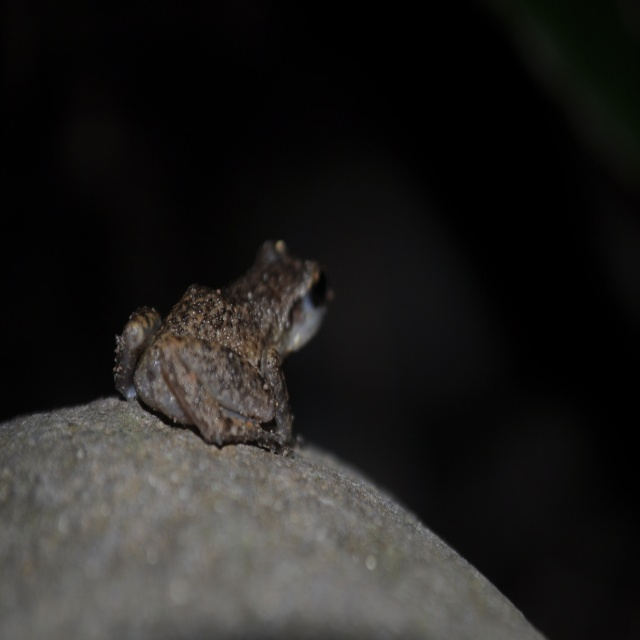Frog: (114, 240, 334, 461)
